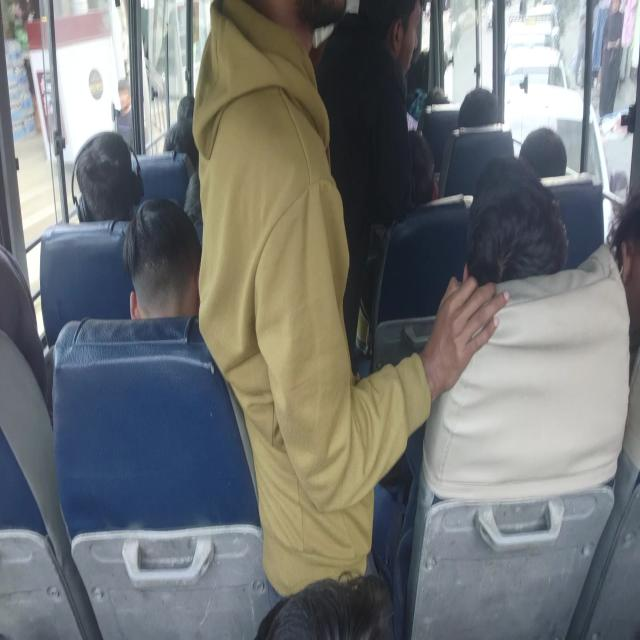person: (221, 0, 349, 265), (246, 554, 408, 640), (471, 176, 567, 298), (129, 196, 204, 334), (352, 0, 446, 109), (74, 119, 138, 236), (0, 247, 43, 387), (604, 185, 640, 324), (157, 110, 207, 183), (393, 134, 431, 223), (524, 129, 566, 193), (419, 48, 459, 111), (454, 96, 500, 141), (423, 79, 458, 119), (172, 90, 203, 126)
